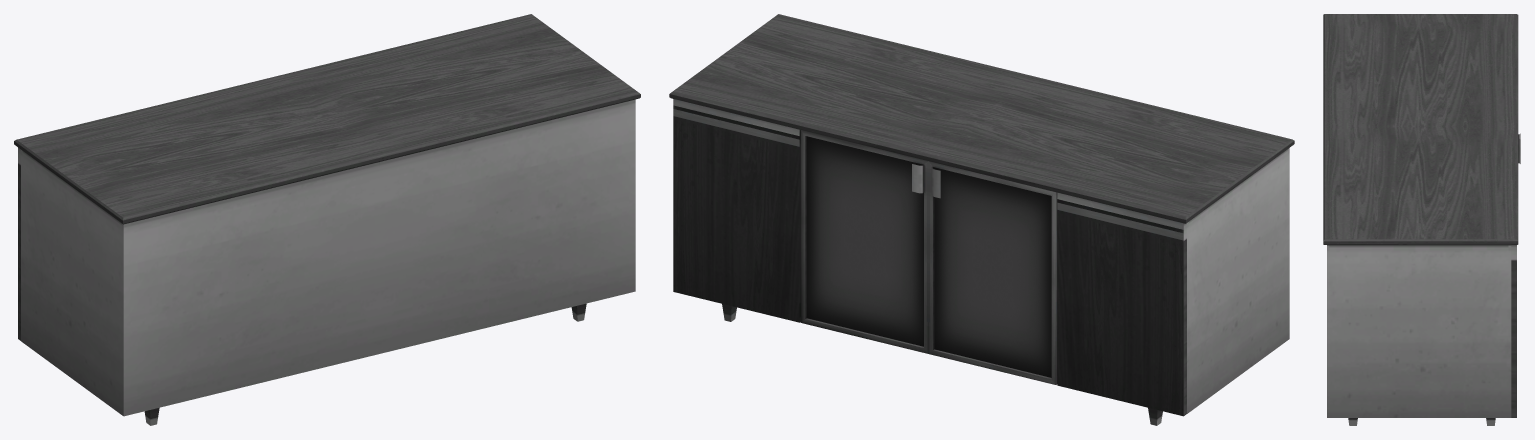
File: p6_office_cabinet_lod1.glb
3 renders of one model, left to right at view 1: azimuth 30°, elevation 25°; view 2: azimuth 150°, elevation 25°; view 3: azimuth 270°, elevation 25°, orthographic. The views are drawn at different scales.
Visible parts, largest first — view 1: surf1; view 2: surf1, surf0; view 3: surf1.
Boxes of the visible parts, left/top/right/bottom form: surf1: left=14, top=14, right=640, bottom=425; surf1: left=669, top=14, right=1294, bottom=425; surf0: left=806, top=136, right=1051, bottom=377; surf1: left=1323, top=14, right=1520, bottom=425.
Size of the model in its own units: 88 by 37 by 32.42.
